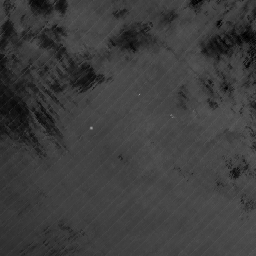Target: (88, 124, 95, 131)
